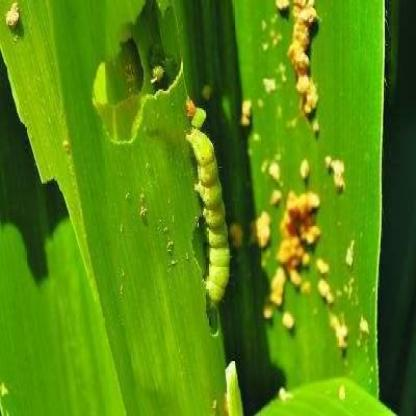armyworm: (186, 122, 237, 311)
